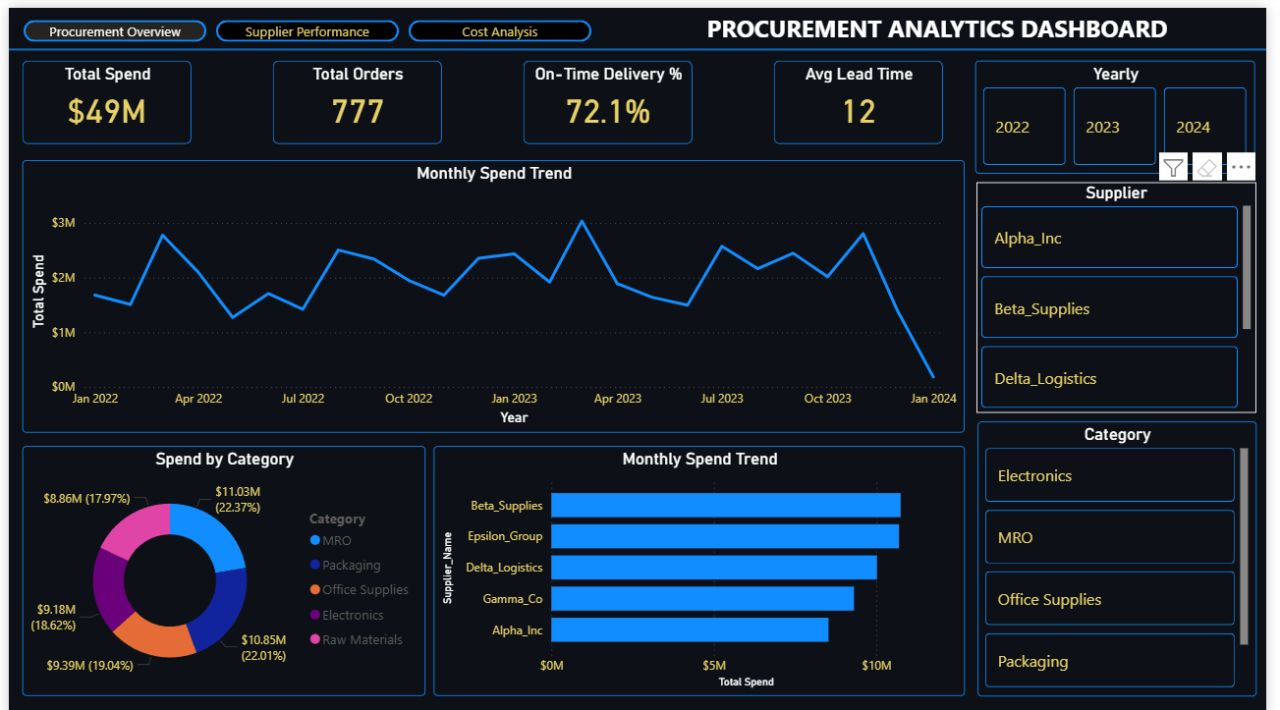

The page's visual inventory and layout, read from the dashboard file:
{"tool":"powerbi","page":{"name":"Procurement Overview","canvas":[1280,720],"ordinal":0},"visuals":[{"type":"textbox","box":[610,0,670,44.4],"z":0},{"type":"shape","box":[0,39.6,1280,4.8],"z":1000},{"type":"advanceCardE03760C5AB684758B56AA29F9E6C257B","title":"Total Spend","fields":{"mainMeasure":["_Measures.Total Spend"]},"box":[14,53.5,172.1,84.9],"z":2000},{"type":"advanceCardE03760C5AB684758B56AA29F9E6C257B","title":"Total Orders","fields":{"mainMeasure":["_Measures.Total Orders"]},"box":[269,53.5,172.1,84.9],"z":3000},{"type":"advanceCardE03760C5AB684758B56AA29F9E6C257B","title":"On-Time Delivery %","fields":{"mainMeasure":["_Measures.On-Time Delivery %"]},"box":[524,53.5,172.1,84.9],"z":4000},{"type":"advanceCardE03760C5AB684758B56AA29F9E6C257B","title":"Avg Lead Time","fields":{"mainMeasure":["_Measures.Avg Lead Time"]},"box":[779.1,53.5,172.1,84.9],"z":5000},{"type":"lineChart","title":"Monthly Spend Trend","fields":{"Y":["_Measures.Total Spend"],"Category":["Date_Table.Date.Variation.Date Hierarchy.Year","Date_Table.Date.Variation.Date Hierarchy.Month"]},"box":[14,154.7,959.3,277.9],"z":6000},{"type":"donutChart","title":"Spend by Category","fields":{"Y":["_Measures.Total Spend"],"Category":["Products.Category"]},"box":[14,446.5,410.5,254.7],"z":7000},{"type":"clusteredBarChart","title":"Monthly Spend Trend","fields":{"Y":["_Measures.Total Spend"],"Category":["Suppliers. Supplier_Name"]},"box":[432.6,446.5,540.7,254.7],"z":8000},{"type":"advancedSlicerVisual","title":" Yearly","fields":{"Values":["Date_Table.Date.Variation.Date Hierarchy.Year"]},"box":[983.7,53.5,284.9,115.1],"z":9000},{"type":"advancedSlicerVisual","title":"Supplier","fields":{"Values":["Suppliers. Supplier_Name"]},"box":[984.9,177.9,284.9,234.9],"z":10000},{"type":"advancedSlicerVisual","title":"Category","fields":{"Values":["Products.Category"]},"box":[986,420.9,283.7,280.2],"z":11000},{"type":"pageNavigator","box":[14.4,12,580,22.8],"z":12000}]}

Visuals, with their boxes in screenshot pixels (x1, y1, x2, y2), scaled from the page's 1280x720 canvas onto the 1280x710 screenshot:
textbox: BBox(610, 0, 1279, 44)
shape: BBox(0, 39, 1279, 44)
"Total Spend" advanceCardE03760C5AB684758B56AA29F9E6C257B: BBox(14, 53, 186, 136)
"Total Orders" advanceCardE03760C5AB684758B56AA29F9E6C257B: BBox(269, 53, 441, 136)
"On-Time Delivery %" advanceCardE03760C5AB684758B56AA29F9E6C257B: BBox(524, 53, 696, 136)
"Avg Lead Time" advanceCardE03760C5AB684758B56AA29F9E6C257B: BBox(779, 53, 951, 136)
"Monthly Spend Trend" lineChart: BBox(14, 153, 973, 427)
"Spend by Category" donutChart: BBox(14, 440, 424, 691)
"Monthly Spend Trend" clusteredBarChart: BBox(433, 440, 973, 691)
" Yearly" advancedSlicerVisual: BBox(984, 53, 1269, 166)
"Supplier" advancedSlicerVisual: BBox(985, 175, 1270, 407)
"Category" advancedSlicerVisual: BBox(986, 415, 1270, 691)
pageNavigator: BBox(14, 12, 594, 34)
